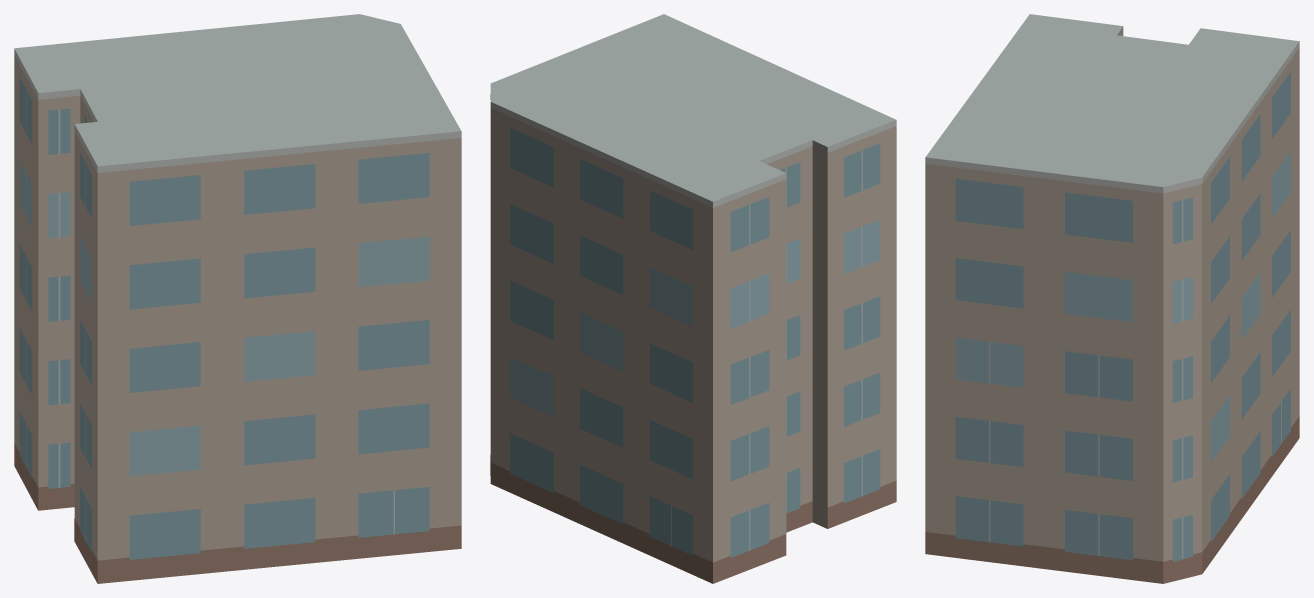
The model's file is survey-upis-33015660.glb.
3 renders of one model, left to right at view 1: azimuth 30°, elevation 25°; view 2: azimuth 150°, elevation 25°; view 3: azimuth 270°, elevation 25°, orthographic. The views are drawn at different scales.
Visible parts, largest first — view 1: survey-upis-33015660.tmp; view 2: survey-upis-33015660.tmp; view 3: survey-upis-33015660.tmp.
Part boxes in pixels (x1,y1,x2,y2): survey-upis-33015660.tmp: [14, 14, 461, 583]; survey-upis-33015660.tmp: [490, 14, 896, 583]; survey-upis-33015660.tmp: [925, 14, 1299, 583].
Size of the model in its own units: 14.42 by 15.4 by 13.17.
